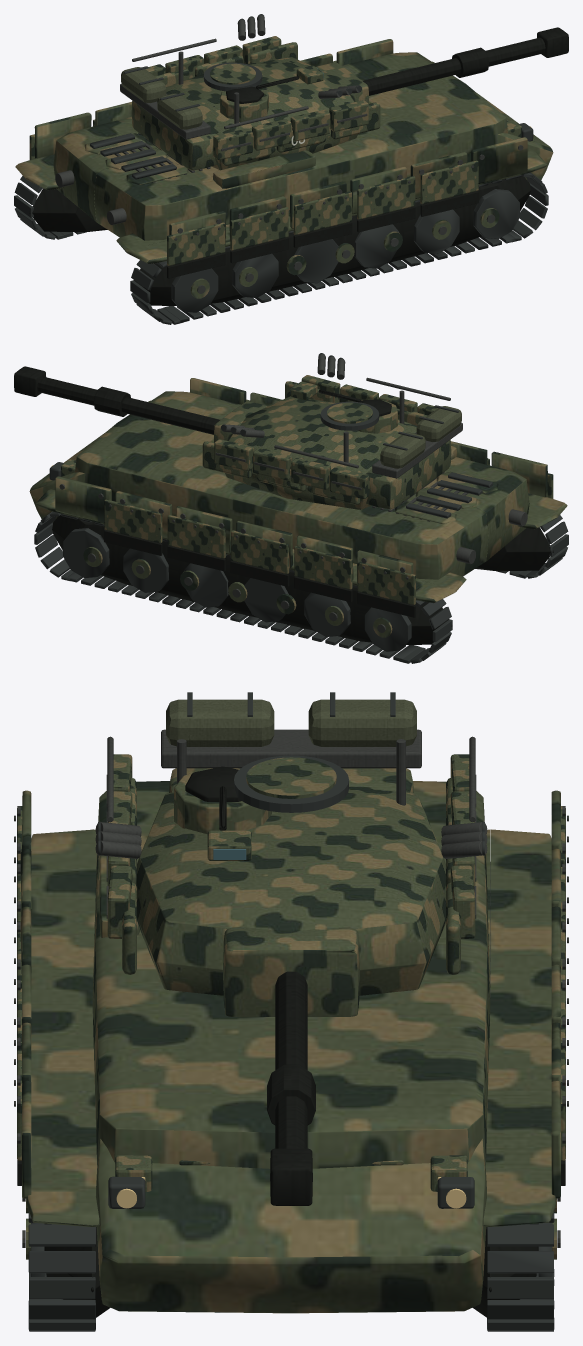
Rendered from tank.glb.
The picture shows the model from 3 angles, top to bottom: view 1: azimuth 30°, elevation 25°; view 2: azimuth 150°, elevation 25°; view 3: azimuth 270°, elevation 25°; orthographic projection. The views are drawn at different scales.
Visible parts, largest first — view 1: part, Premium details - vehicles/tank, V2 field detail • vehicles/tank, V2 field detail • Node_4, part.001, Premium details - Node_4, part.002; view 2: part, Premium details - vehicles/tank, V2 field detail • vehicles/tank, part.001, V2 field detail • Node_4, part.002, Premium details - Node_4; view 3: part, part.001, V2 field detail • Node_4, Premium details - vehicles/tank, Premium details - Node_4, part.002, V2 field detail • vehicles/tank.
Part boxes in pixels (left/top/right/bottom): part: left=15, top=52, right=553, bottom=312; Premium details - vehicles/tank: left=14, top=39, right=548, bottom=324; V2 field detail • vehicles/tank: left=29, top=60, right=521, bottom=278; V2 field detail • Node_4: left=120, top=14, right=368, bottom=159; part.001: left=131, top=57, right=368, bottom=170; Premium details - Node_4: left=155, top=42, right=380, bottom=165; part.002: left=363, top=27, right=568, bottom=95; part: left=29, top=391, right=567, bottom=651; Premium details - vehicles/tank: left=34, top=378, right=568, bottom=663; V2 field detail • vehicles/tank: left=61, top=399, right=553, bottom=617; part.001: left=214, top=389, right=451, bottom=509; V2 field detail • Node_4: left=214, top=353, right=462, bottom=498; part.002: left=14, top=366, right=220, bottom=434; Premium details - Node_4: left=202, top=381, right=427, bottom=504; part: left=26, top=781, right=556, bottom=1317; part.001: left=137, top=766, right=445, bottom=1016; V2 field detail • Node_4: left=95, top=692, right=487, bottom=938; Premium details - vehicles/tank: left=17, top=790, right=565, bottom=1331; Premium details - Node_4: left=122, top=739, right=460, bottom=974; part.002: left=267, top=971, right=315, bottom=1205; V2 field detail • vehicles/tank: left=14, top=806, right=568, bottom=1191.
Size of the model in its own units: 8.09 by 2.83 by 4.05.
8 materials, 4 textured.
